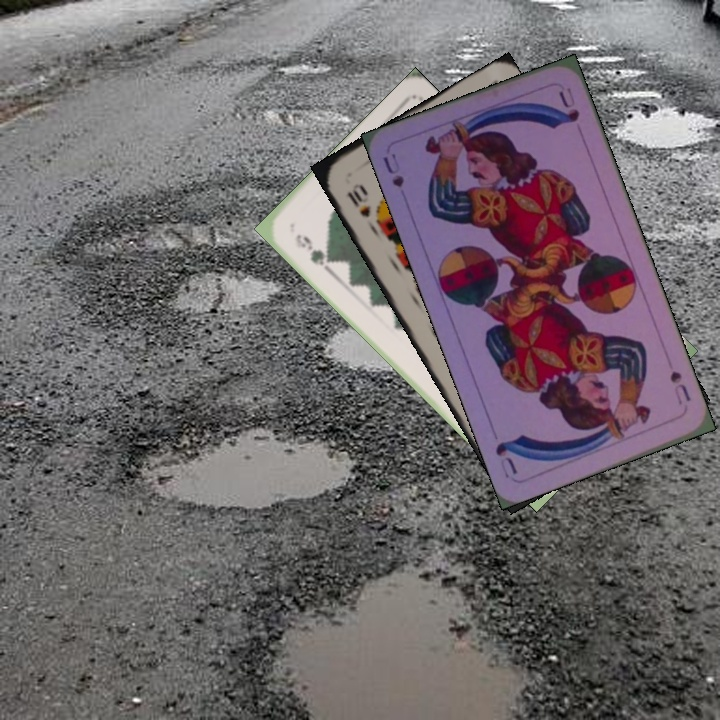G9: (291, 229, 336, 269)
S10: (343, 180, 374, 220)
SU: (378, 149, 407, 190), (666, 367, 693, 408)
